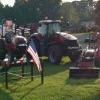Tractor: (27, 13, 81, 74)
